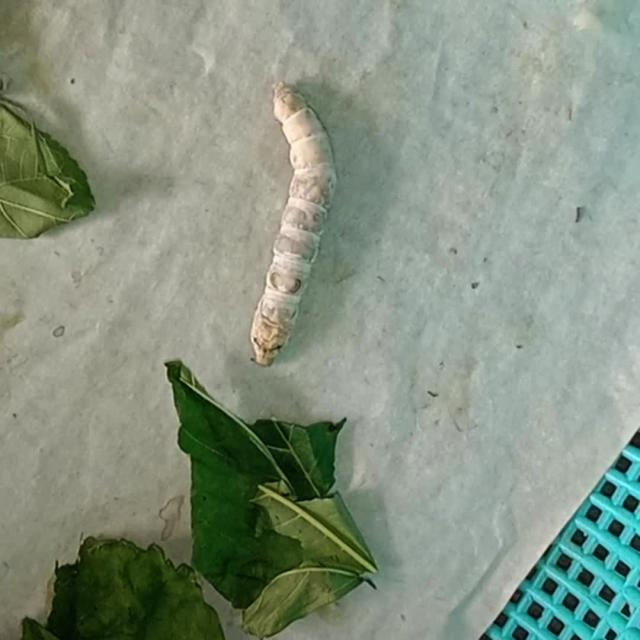Grasserie: (239, 70, 357, 371)
